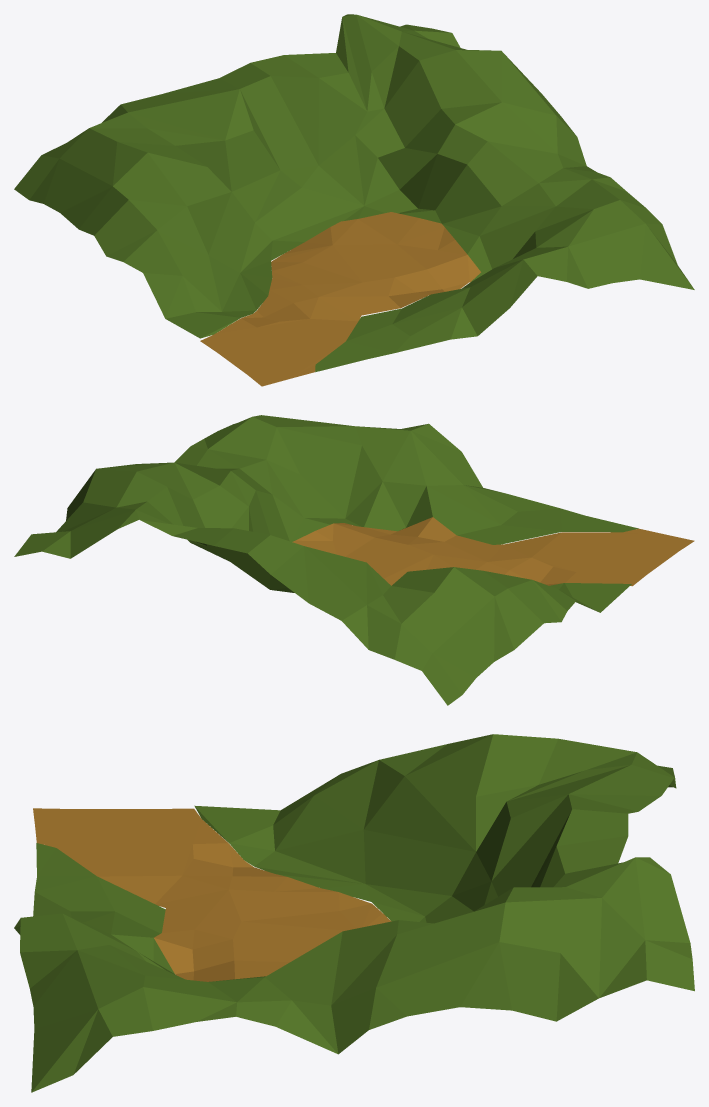
The model's file is terrainDeneme.fbx.
The picture shows the model from 3 angles, top to bottom: view 1: azimuth 30°, elevation 25°; view 2: azimuth 150°, elevation 25°; view 3: azimuth 270°, elevation 25°; orthographic projection. The views are drawn at different scales.
Parts seen in each view (by area): view 1: Plane, Plane.001; view 2: Plane, Plane.001; view 3: Plane, Plane.001.
Boxes of the visible parts, bbox=[...] form: Plane: bbox=[14, 14, 694, 372]; Plane.001: bbox=[200, 212, 480, 386]; Plane: bbox=[14, 415, 638, 705]; Plane.001: bbox=[292, 517, 694, 586]; Plane: bbox=[14, 734, 694, 1092]; Plane.001: bbox=[33, 808, 391, 981].
Size of the model in its own units: 2116 by 593 by 2112.
